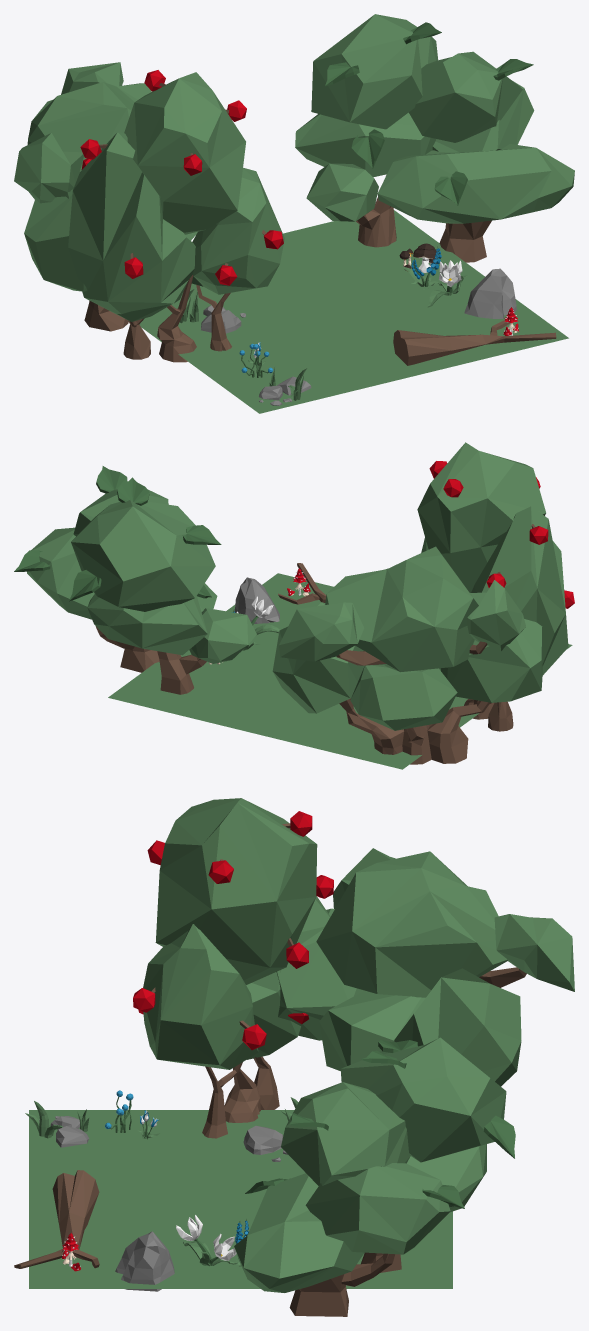
Rendered from RightBottomTile.fbx.
3 views of the same model, one above another, from view 1: azimuth 30°, elevation 25°; view 2: azimuth 150°, elevation 25°; view 3: azimuth 270°, elevation 25° (orthographic). The views are drawn at different scales.
Parts seen in each view (by area): view 1: stone_2.002; view 2: stone_2.002; view 3: stone_2.002.
Boxes of the visible parts, x1,y1,x2,y2 form: stone_2.002: (14, 14, 574, 413); stone_2.002: (14, 442, 574, 769); stone_2.002: (14, 798, 574, 1316).
Size of the model in its own units: 3.33 by 1.73 by 2.65.
